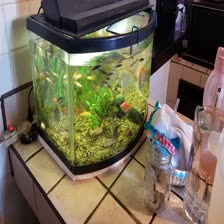Cuezo: (134, 64, 146, 94)
